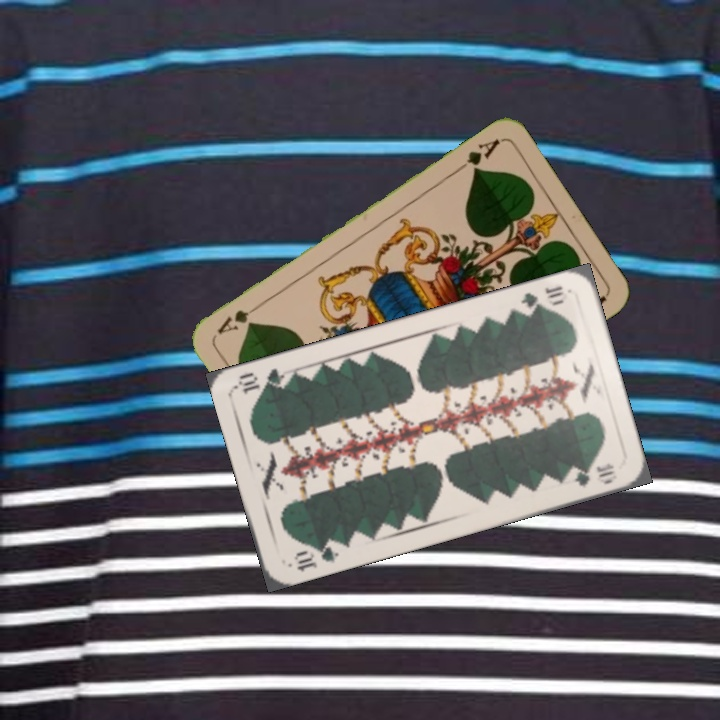G10: (290, 536, 342, 574), (517, 281, 567, 314)
GA: (452, 134, 502, 175)
